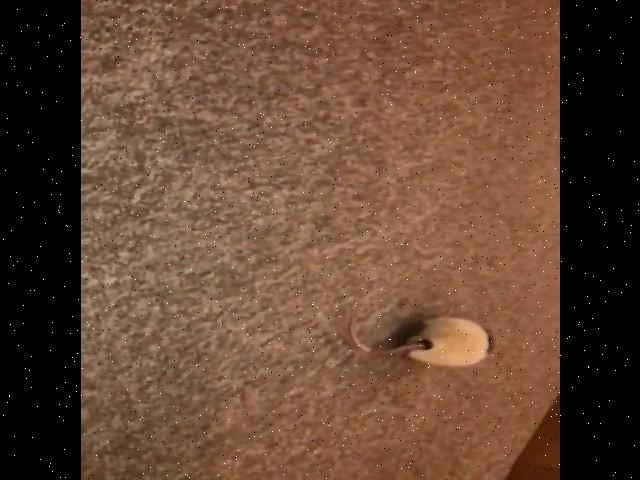Tikus: (344, 314, 498, 370)
